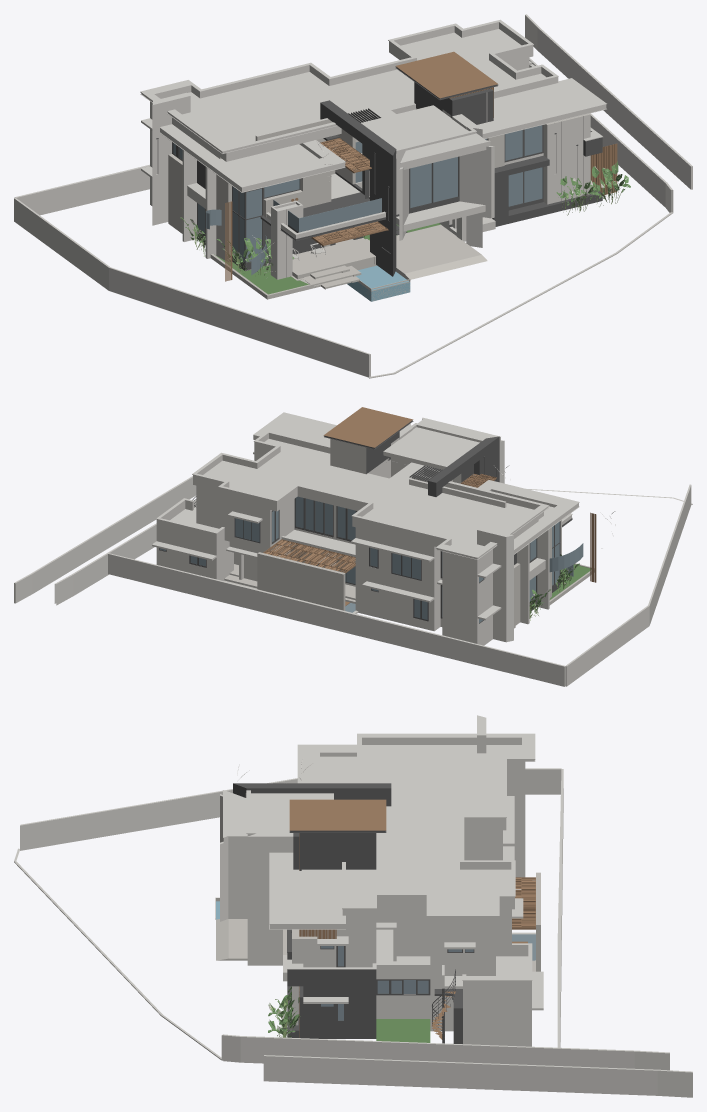
Rendered from courtyard-house.glb.
3 renders of one model, top to bottom at view 1: azimuth 30°, elevation 25°; view 2: azimuth 150°, elevation 25°; view 3: azimuth 270°, elevation 25°, orthographic. The views are drawn at different scales.
Parts seen in each view (by area): view 1: house; view 2: house; view 3: house.
Part boxes in pixels (x1,y1,x2,y2): house: (14, 14, 692, 378); house: (14, 407, 692, 686); house: (14, 715, 692, 1097).
Bounding box in the file's own units: 46.51 × 11.91 × 43.86.
